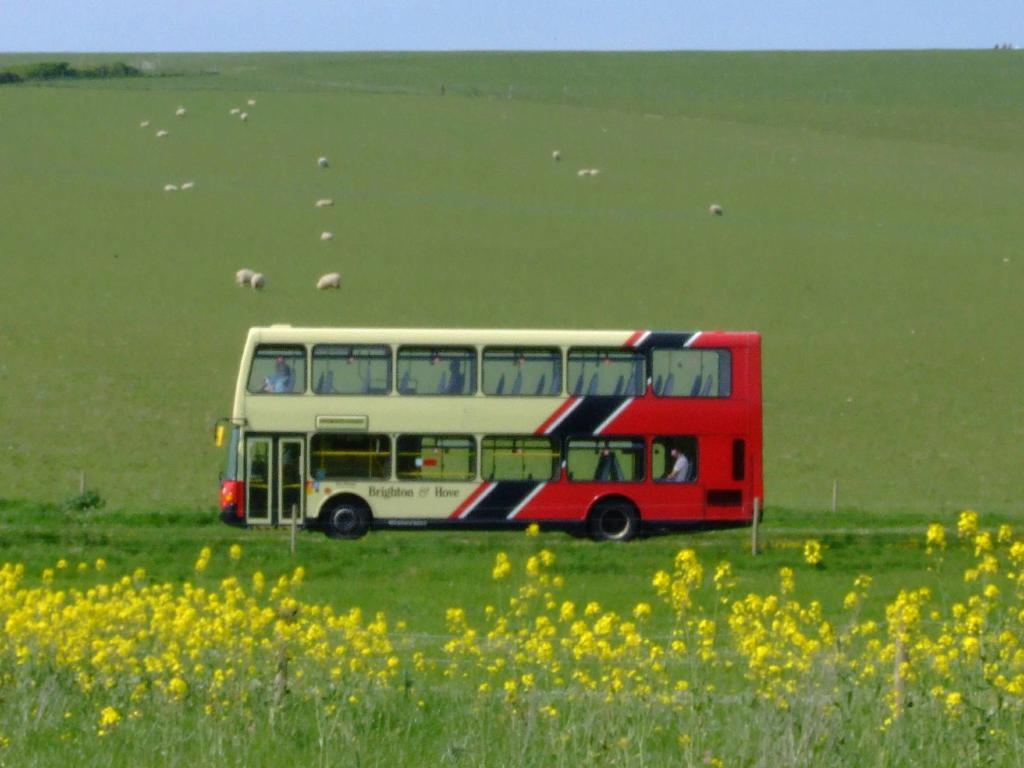Bus: (204, 322, 766, 542)
